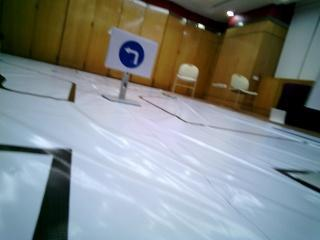left: (110, 30, 153, 76)
